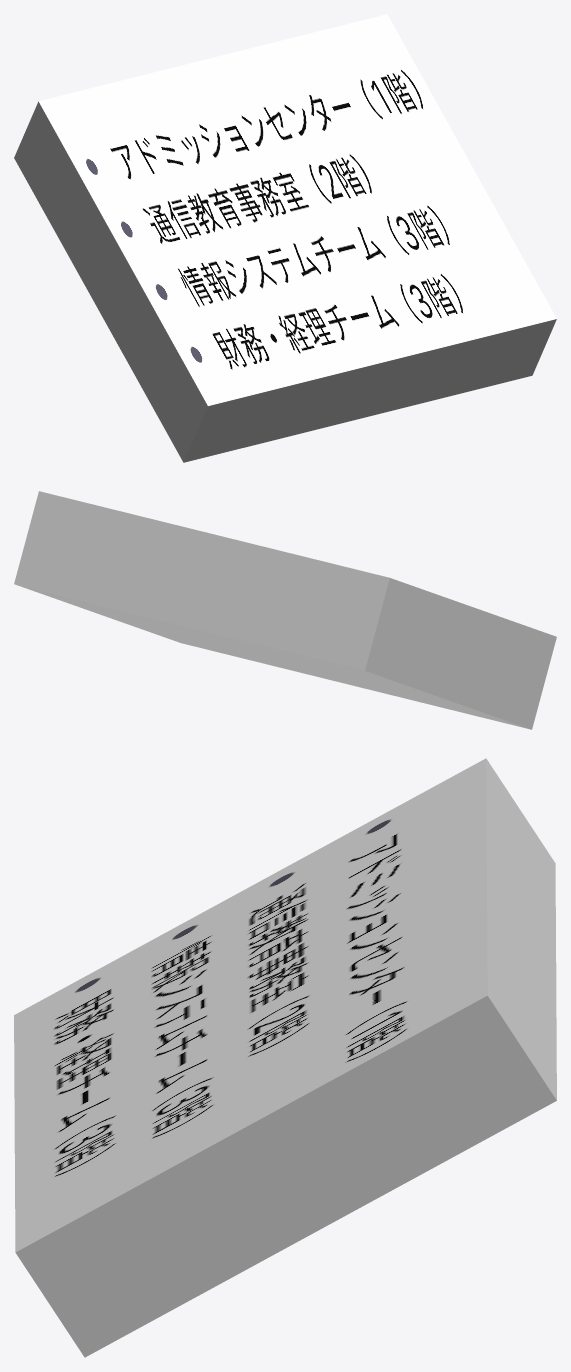
3 views of the same model, one above another, from view 1: azimuth 30°, elevation 25°; view 2: azimuth 150°, elevation 25°; view 3: azimuth 270°, elevation 25° (orthographic). The views are drawn at different scales.
Visible parts, largest first — view 1: 立方体; view 2: 立方体; view 3: 立方体.
Boxes of the visible parts, left/top/right/bottom form: 立方体: left=14, top=14, right=556, bottom=462; 立方体: left=14, top=491, right=556, bottom=729; 立方体: left=14, top=758, right=556, bottom=1357.
Size of the model in its own units: 0.5038 by 0.3546 by 0.4803.
2 materials, 1 textured.
